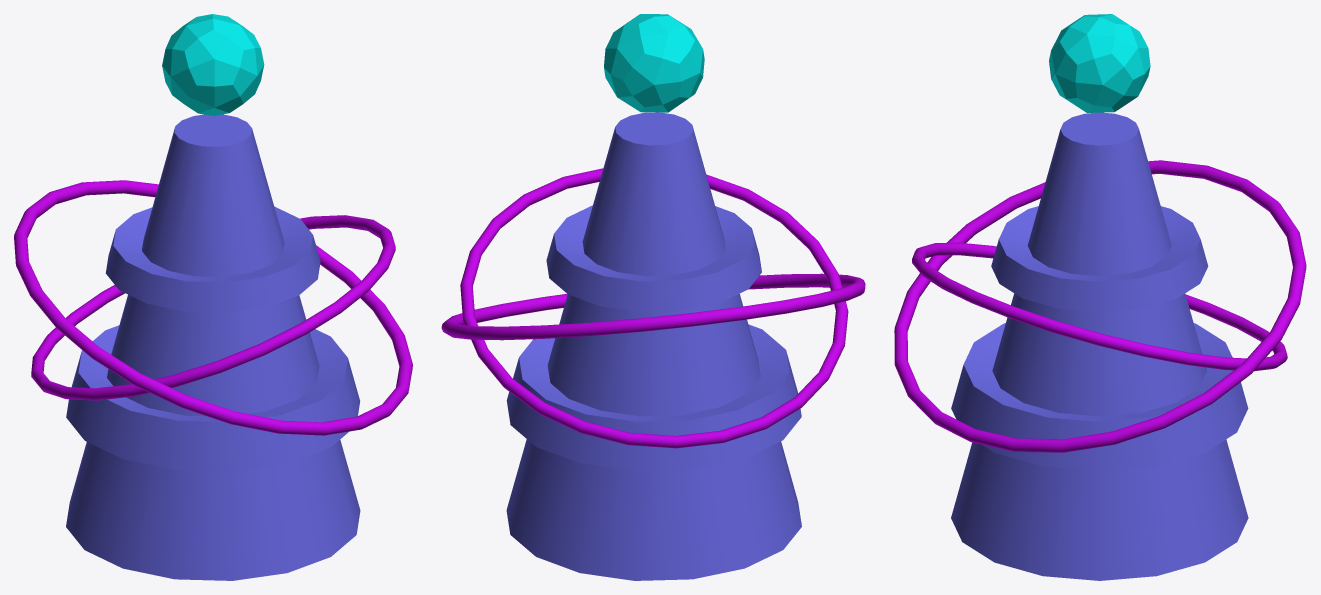
Rendered from fusioncoil.fbx.
The picture shows the model from 3 angles, left to right: view 1: azimuth 30°, elevation 25°; view 2: azimuth 150°, elevation 25°; view 3: azimuth 270°, elevation 25°; orthographic projection.
Visible parts, largest first — view 1: fusioncoilbase_low, ring1_low, fusioncoilsphere_low, ring2_low; view 2: fusioncoilbase_low, ring2_low, ring1_low, fusioncoilsphere_low; view 3: fusioncoilbase_low, ring1_low, fusioncoilsphere_low, ring2_low.
Boxes of the visible parts, x1,y1,x2,y2 form: fusioncoilbase_low: (66,114,360,580); ring1_low: (14,180,412,435); fusioncoilsphere_low: (162,14,264,115); ring2_low: (31,215,395,400); fusioncoilbase_low: (506,112,801,580); ring2_low: (460,168,848,448); ring1_low: (441,273,865,340); fusioncoilsphere_low: (604,14,704,112); fusioncoilbase_low: (951,112,1248,580); ring1_low: (894,160,1306,452); fusioncoilsphere_low: (1049,14,1150,112); ring2_low: (912,242,1287,371).
Bounding box in the file's own units: 1.91 × 2.58 × 1.92.
